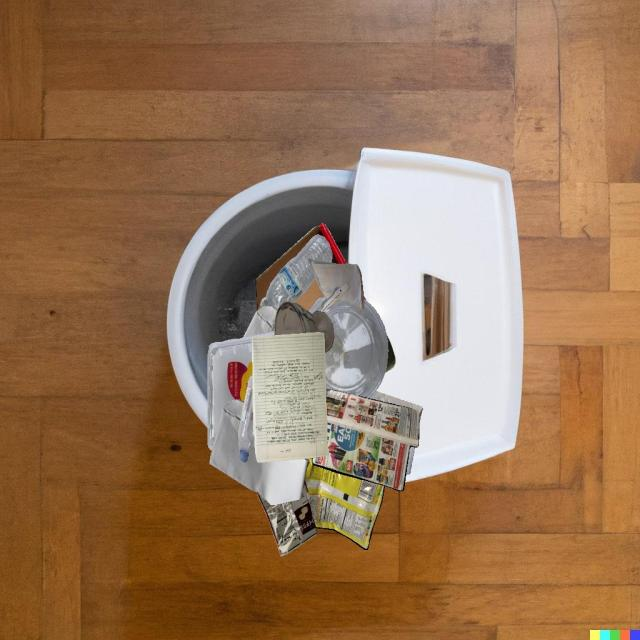cardboard: (256, 223, 347, 311)
glass: (275, 302, 334, 353), (385, 334, 396, 373)
paper: (312, 388, 419, 491), (210, 399, 309, 505), (252, 332, 328, 462), (308, 258, 364, 312), (370, 391, 423, 424), (243, 306, 278, 338), (406, 446, 415, 474)
plastic: (208, 331, 275, 450), (323, 299, 388, 399), (261, 234, 332, 310), (256, 479, 318, 556), (238, 375, 255, 463)
trash: (304, 458, 385, 550)
